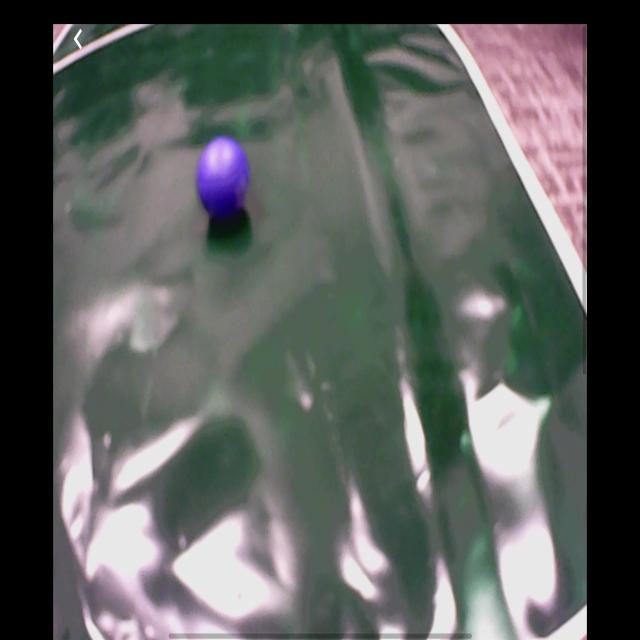ball: (198, 137, 251, 217)
